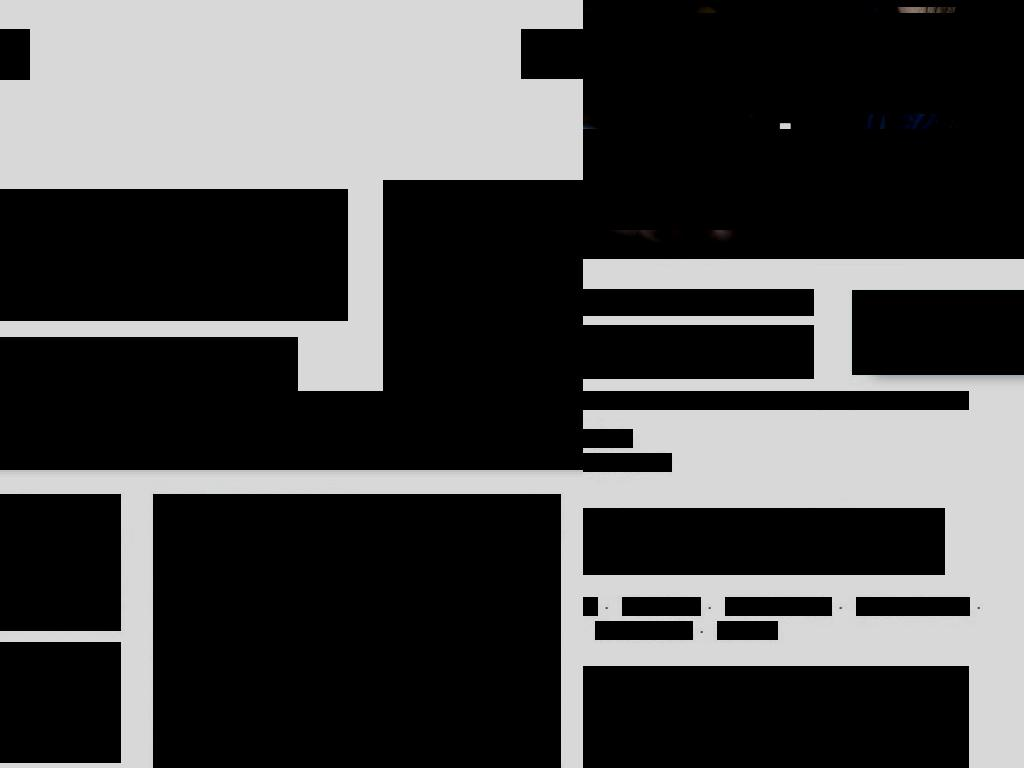button: (153, 494, 561, 768), (0, 494, 121, 631), (0, 642, 121, 763), (852, 290, 1024, 375), (521, 29, 583, 79), (0, 29, 30, 80)
heading: (0, 391, 583, 470), (0, 189, 348, 321), (583, 289, 814, 316)
image: (153, 494, 561, 768), (383, 180, 583, 391), (0, 494, 121, 631), (0, 44, 18, 68)
link: (122, 424, 250, 442), (856, 597, 970, 616), (273, 424, 388, 442), (833, 508, 941, 527), (725, 597, 832, 616), (595, 621, 693, 640), (583, 453, 672, 472), (622, 597, 701, 616), (493, 424, 566, 442), (717, 621, 778, 640), (411, 424, 470, 442), (583, 429, 633, 448), (53, 424, 99, 442), (583, 597, 598, 616)
text: (583, 13, 1024, 114), (583, 129, 1024, 230), (583, 666, 969, 768), (583, 508, 945, 575), (0, 337, 298, 391), (852, 290, 1024, 375), (0, 643, 112, 762), (583, 325, 814, 379), (583, 391, 969, 410), (583, 508, 833, 527), (545, 30, 583, 79)
